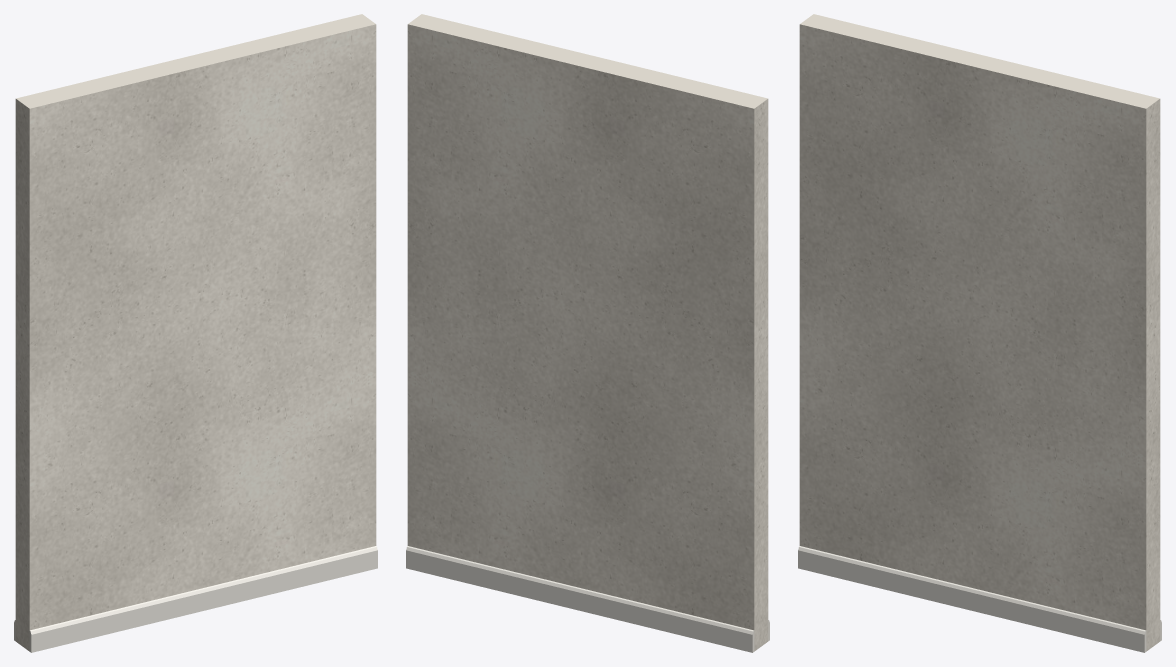
The model's file is iw_plain.glb.
The picture shows the model from 3 angles, left to right: view 1: azimuth 30°, elevation 25°; view 2: azimuth 150°, elevation 25°; view 3: azimuth 330°, elevation 25°; orthographic projection.
Visible parts, largest first — view 1: iw_plain_plaster, iw_plain_trim; view 2: iw_plain_plaster, iw_plain_trim; view 3: iw_plain_plaster, iw_plain_trim.
Part boxes in pixels (x1,y1,x2,y2): iw_plain_plaster: (15, 14, 376, 651); iw_plain_trim: (14, 546, 377, 652); iw_plain_plaster: (407, 14, 768, 651); iw_plain_trim: (406, 546, 769, 652); iw_plain_plaster: (799, 14, 1160, 651); iw_plain_trim: (798, 546, 1161, 652).
Bounding box in the file's own units: 2 × 2.99 × 0.172.
2 materials, 1 textured.
